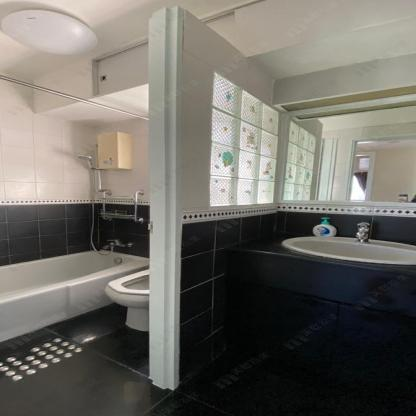Bathtub: (0, 248, 151, 340)
Faucet: (354, 220, 370, 242)
Toilet: (101, 265, 149, 331)
Toilet Sink: (283, 236, 415, 265)
Water Heater: (96, 131, 132, 169)
